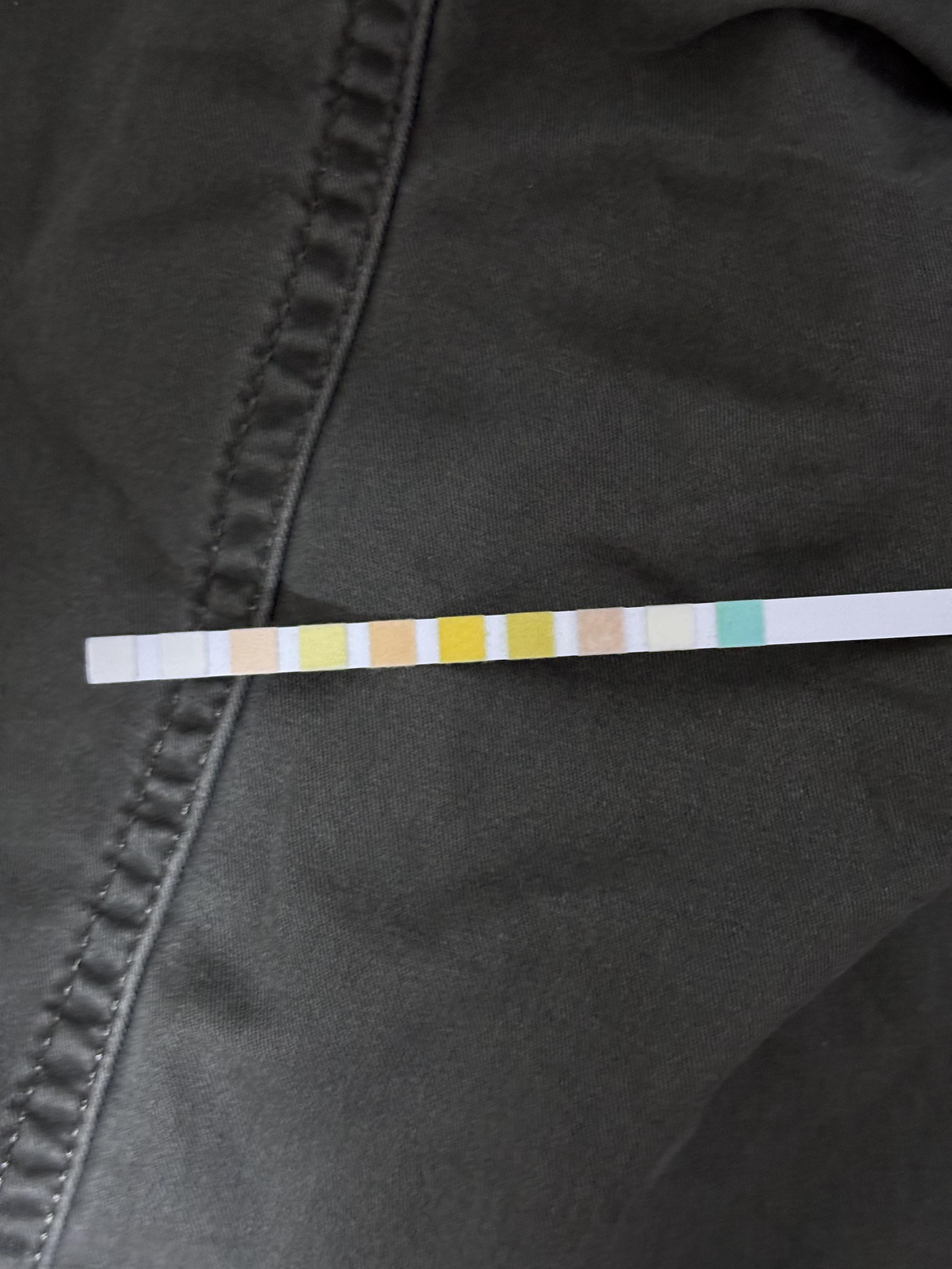Bilirubin: (649, 607, 691, 649)
Blood: (441, 618, 484, 660)
Glucose: (719, 603, 764, 646)
Ketone: (581, 610, 622, 652)
Leukocytes: (90, 639, 134, 680)
Nitrite: (165, 635, 206, 677)
Protein: (302, 626, 343, 668)
SpGravity: (511, 615, 552, 657)
Urobilinogen: (232, 631, 277, 672)
pH: (372, 622, 413, 665)
strip: (85, 589, 945, 684)
